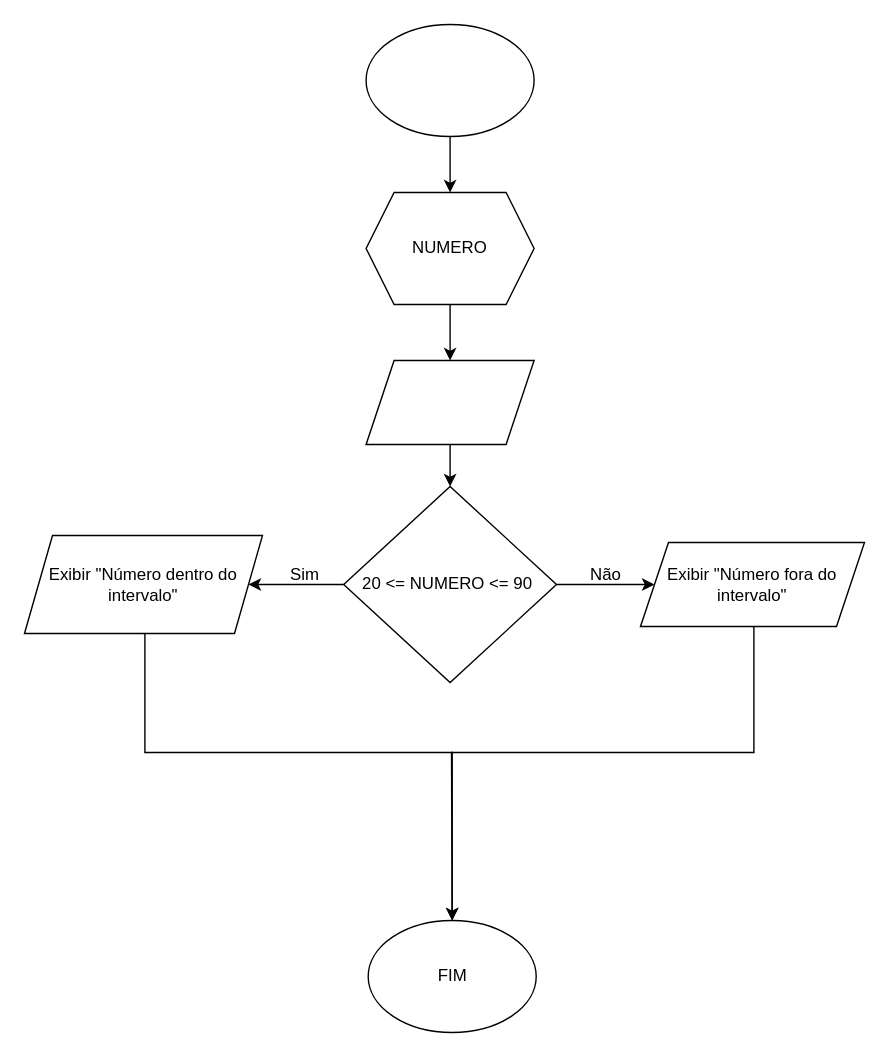
The diagram is 889 pixels wide and 1057 high, and some of its shapes have lost their labels. The shapes that lost their labels are listed below. From the top down, each one's box as (x1, y1, x2, y2) in pixels, then its label:
(365, 23, 534, 136): INICIO
(365, 359, 534, 444): Ler NUMERO
